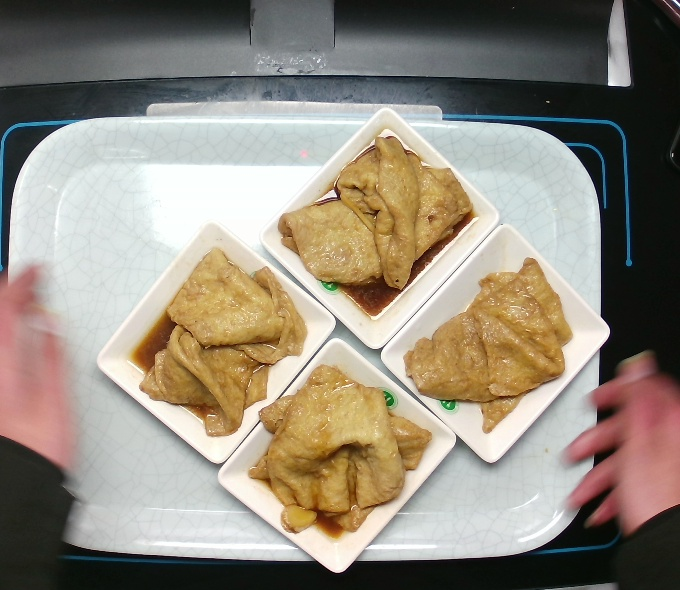wcq-YouDouFu: (274, 127, 480, 318), (124, 245, 311, 438), (250, 356, 437, 549), (400, 251, 576, 437)
